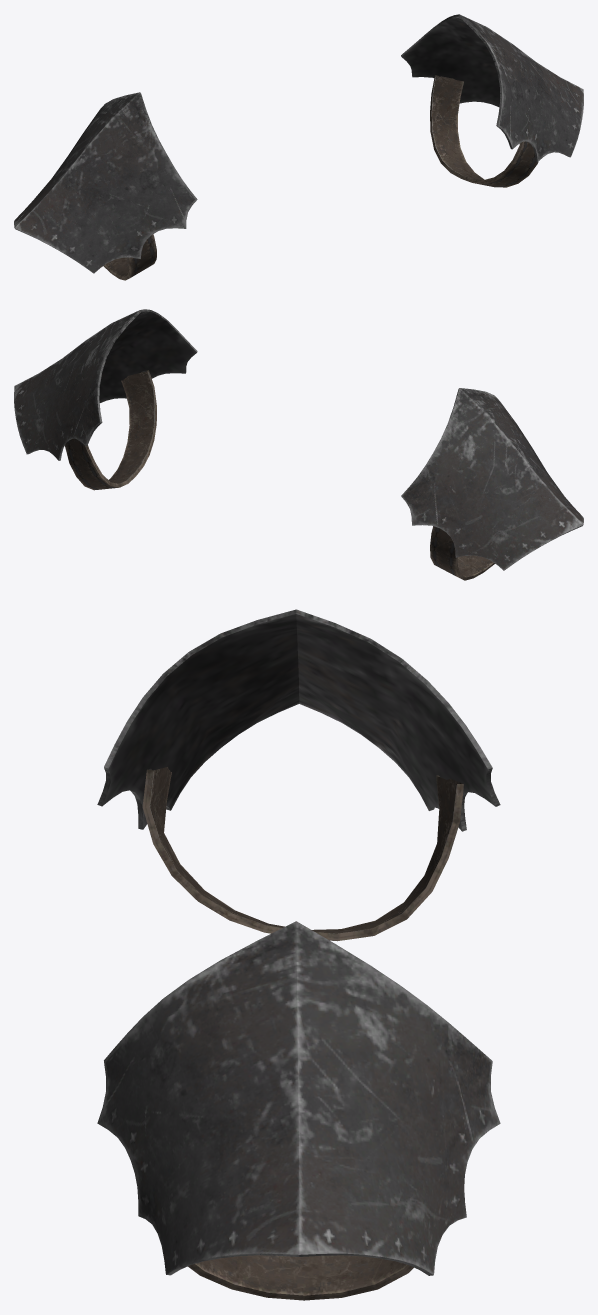
File: sk_uruk_mordor_pauldron_medium_b.fbx
3 views of the same model, one above another, from view 1: azimuth 30°, elevation 25°; view 2: azimuth 150°, elevation 25°; view 3: azimuth 270°, elevation 25° (orthographic). The views are drawn at different scales.
Visible parts, largest first — view 1: sk_uruk_mordor_pauldron_medium_b.1, sk_uruk_mordor_pauldron_medium_b.0; view 2: sk_uruk_mordor_pauldron_medium_b.1, sk_uruk_mordor_pauldron_medium_b.0; view 3: sk_uruk_mordor_pauldron_medium_b.1, sk_uruk_mordor_pauldron_medium_b.0.
Part boxes in pixels (x1,y1,x2,y2): sk_uruk_mordor_pauldron_medium_b.1: (14,14,583,273); sk_uruk_mordor_pauldron_medium_b.0: (103,75,538,280); sk_uruk_mordor_pauldron_medium_b.1: (14,309,583,570); sk_uruk_mordor_pauldron_medium_b.0: (65,370,494,580); sk_uruk_mordor_pauldron_medium_b.1: (97,609,500,1275); sk_uruk_mordor_pauldron_medium_b.0: (142,767,463,1300).
Bounding box in the file's own units: 0.8779 × 0.2694 × 0.2607.
Materials: 2 (2 with a texture image).
